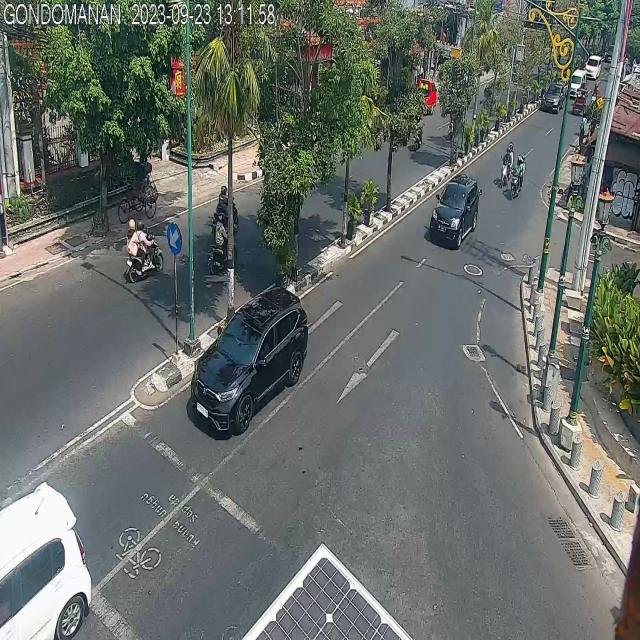car: (190, 278, 308, 438), (0, 484, 91, 640), (430, 170, 478, 244), (541, 81, 565, 114), (584, 52, 602, 82), (569, 68, 584, 98)
motorcycle: (122, 214, 162, 282), (208, 212, 237, 280), (212, 181, 240, 236), (511, 151, 525, 200), (501, 138, 515, 187), (413, 114, 424, 151), (448, 107, 456, 138)
truck: (410, 76, 438, 118)
